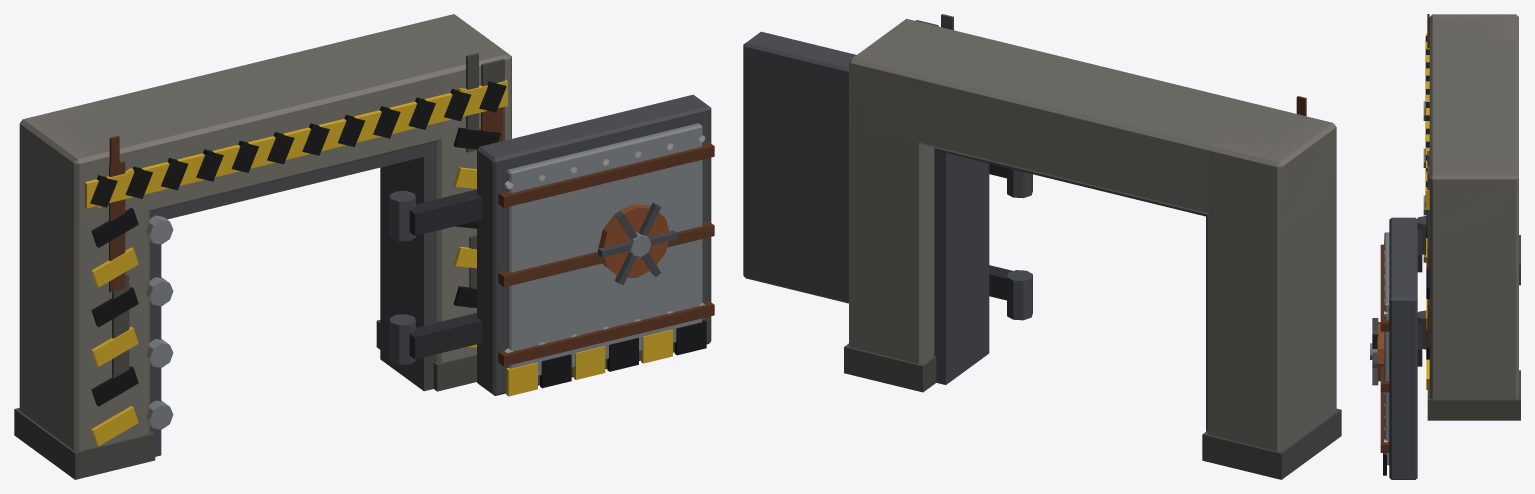
The model's file is lmk_bunker_door.fbx.
3 renders of one model, left to right at view 1: azimuth 30°, elevation 25°; view 2: azimuth 150°, elevation 25°; view 3: azimuth 270°, elevation 25°, orthographic. The views are drawn at different scales.
Visible parts, largest first — view 1: lmk_bunker_door; view 2: lmk_bunker_door; view 3: lmk_bunker_door.
Boxes of the visible parts, x1=… form: lmk_bunker_door: x1=14, y1=14, x2=714, y2=479; lmk_bunker_door: x1=743, y1=14, x2=1341, y2=479; lmk_bunker_door: x1=1370, y1=14, x2=1520, y2=479.
Size of the model in its own units: 7.27 by 3.77 by 2.02.
